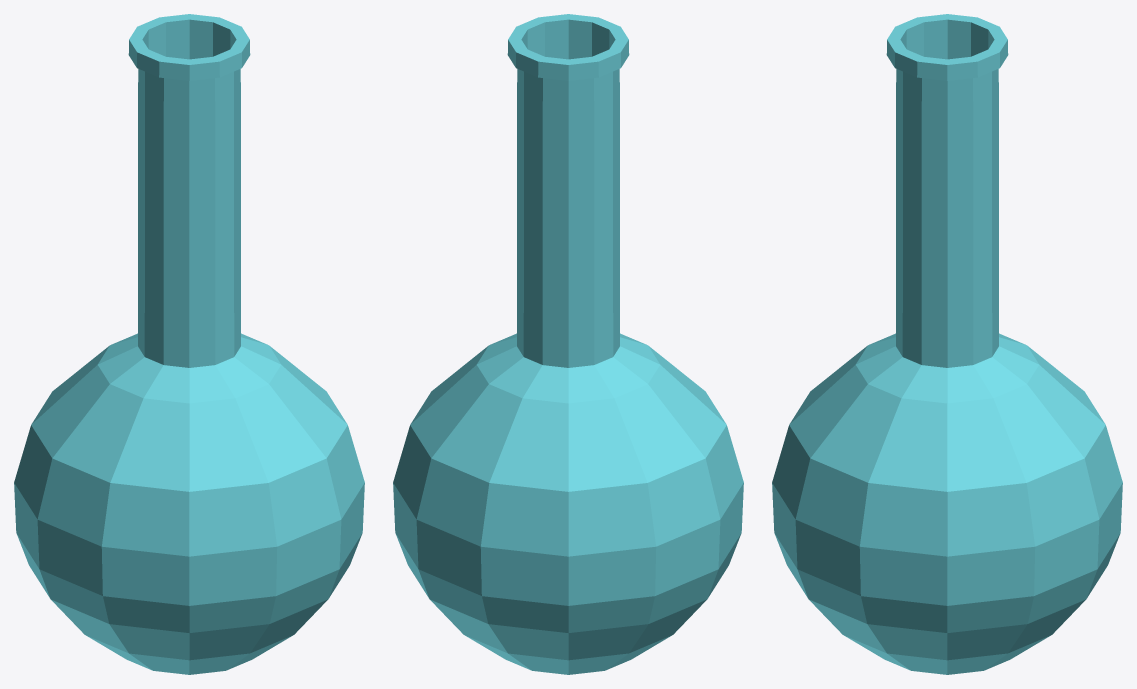
The model's file is SM_Flask_02_B.fbx.
3 views of the same model, side by side, from view 1: azimuth 30°, elevation 25°; view 2: azimuth 150°, elevation 25°; view 3: azimuth 270°, elevation 25° (orthographic).
Parts seen in each view (by area): view 1: SM_Flask_02_B; view 2: SM_Flask_02_B; view 3: SM_Flask_02_B.
Part boxes in pixels (x1,y1,x2,y2): SM_Flask_02_B: (14,14,364,674); SM_Flask_02_B: (393,14,743,674); SM_Flask_02_B: (772,14,1122,674).
Bounding box in the file's own units: 13.05 × 25.09 × 13.05.
